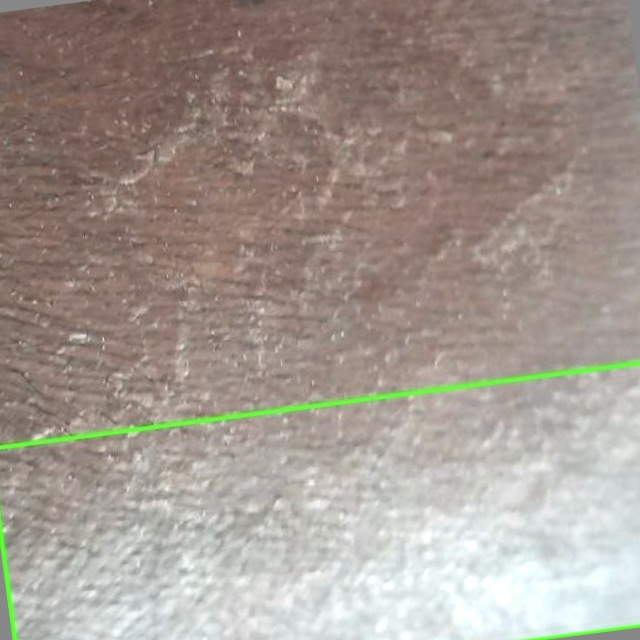Seborrheic Dermatitis: (0, 361, 639, 639)
